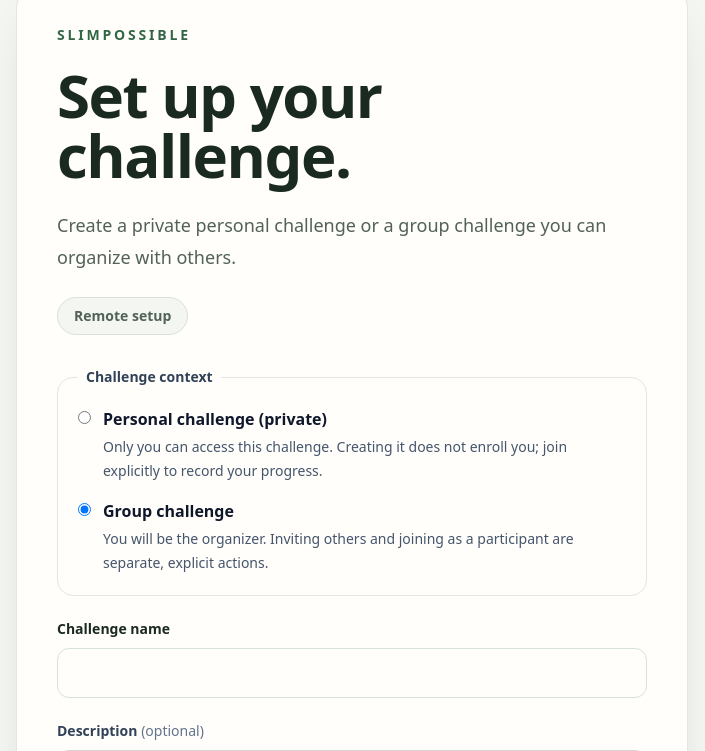
Test: ChallengeSetupPage › preserves all entered fields while a saved challenge finishes loading
Type "Typed while loading" into the field labelled "Challenge name" at {"x": 352, "y": 673}, box [57, 648, 647, 698]
(page scrolled)
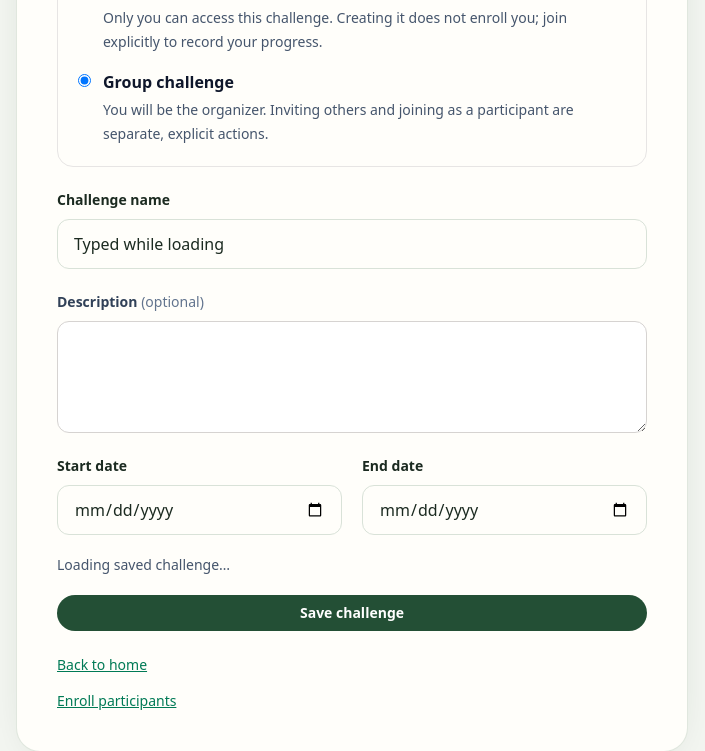
Type "Keep this description." into the text box labelled "Description (optional)" at {"x": 352, "y": 377}, box [57, 321, 647, 433]
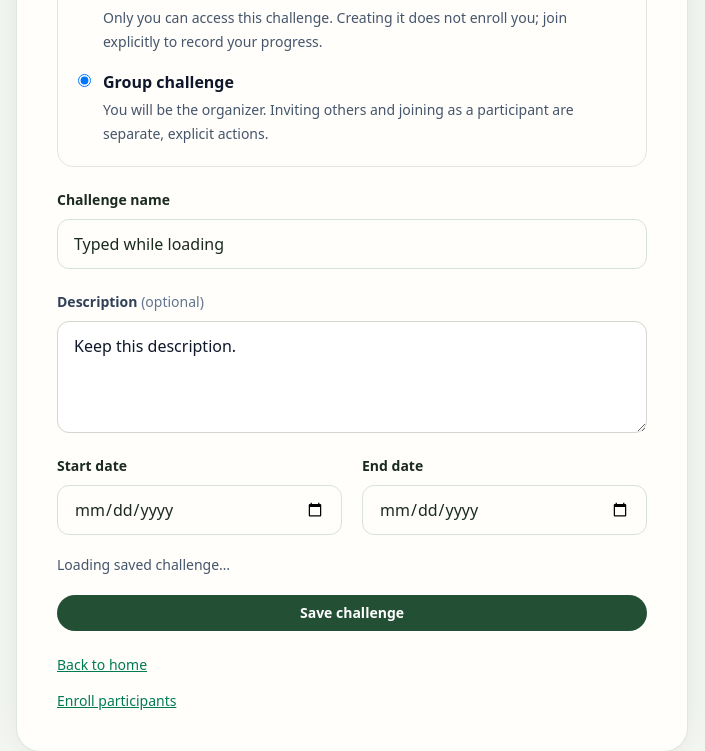
Type "2026-10-01" into the date field labelled "Start date" at {"x": 200, "y": 510}, box [57, 485, 342, 535]
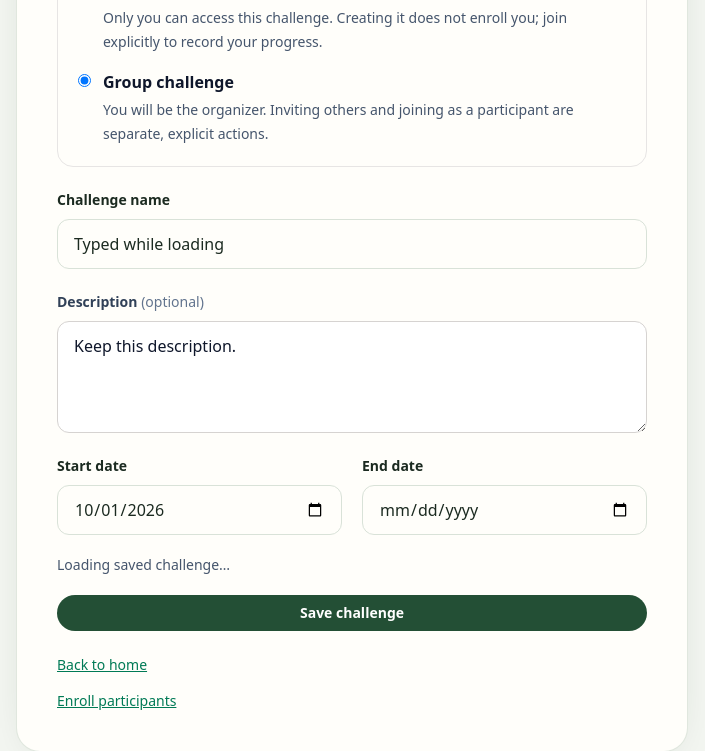
Type "2026-11-01" into the date field labelled "End date" at {"x": 504, "y": 510}, box [362, 485, 647, 535]
(page scrolled)
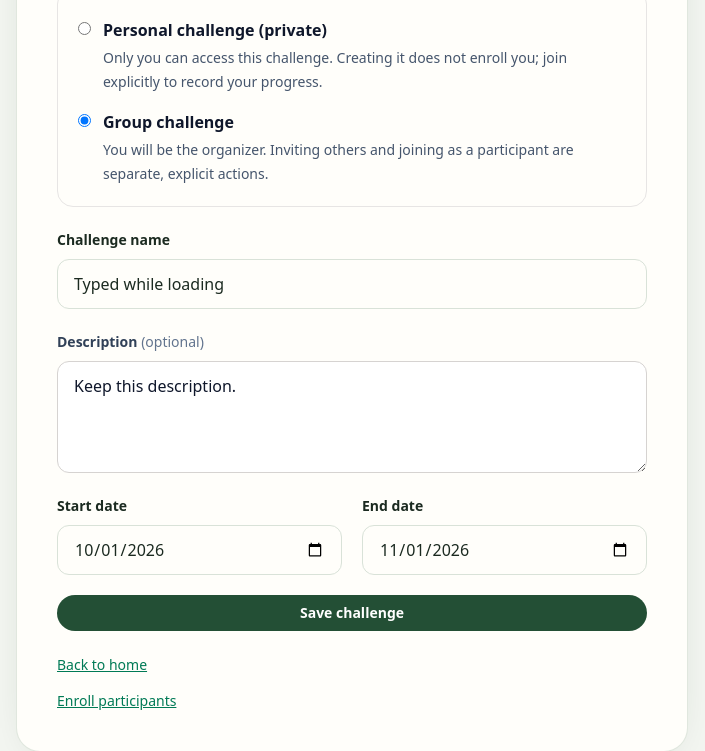
Result: the text "Loading saved challenge…" is gone
